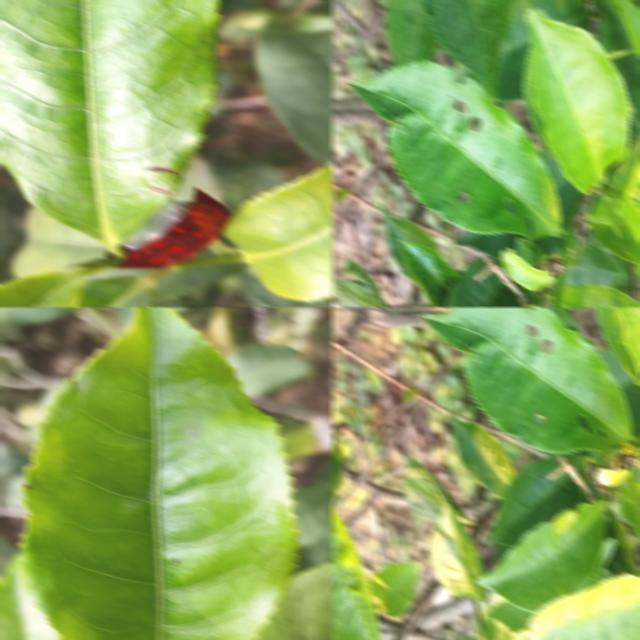Leaf: (20, 307, 297, 640), (0, 0, 218, 247), (350, 61, 561, 238), (424, 307, 634, 453), (524, 9, 629, 192), (223, 161, 333, 301), (476, 500, 605, 611), (253, 12, 333, 161), (495, 0, 590, 99), (483, 454, 584, 546), (421, 0, 514, 98), (514, 572, 640, 640), (9, 206, 107, 277), (331, 504, 380, 640), (427, 503, 488, 601), (448, 411, 515, 496), (0, 555, 62, 640), (226, 343, 314, 398), (401, 457, 470, 525), (379, 203, 438, 279), (399, 240, 458, 307), (444, 258, 522, 307), (385, 0, 438, 64), (154, 260, 244, 297), (368, 560, 421, 616), (292, 478, 333, 545), (75, 275, 155, 307), (587, 199, 627, 257), (500, 248, 553, 289), (559, 283, 640, 307), (483, 598, 529, 640), (609, 0, 640, 59), (593, 0, 630, 49), (333, 274, 381, 307), (617, 197, 640, 242), (331, 442, 344, 502), (565, 450, 588, 474), (86, 268, 131, 279)
